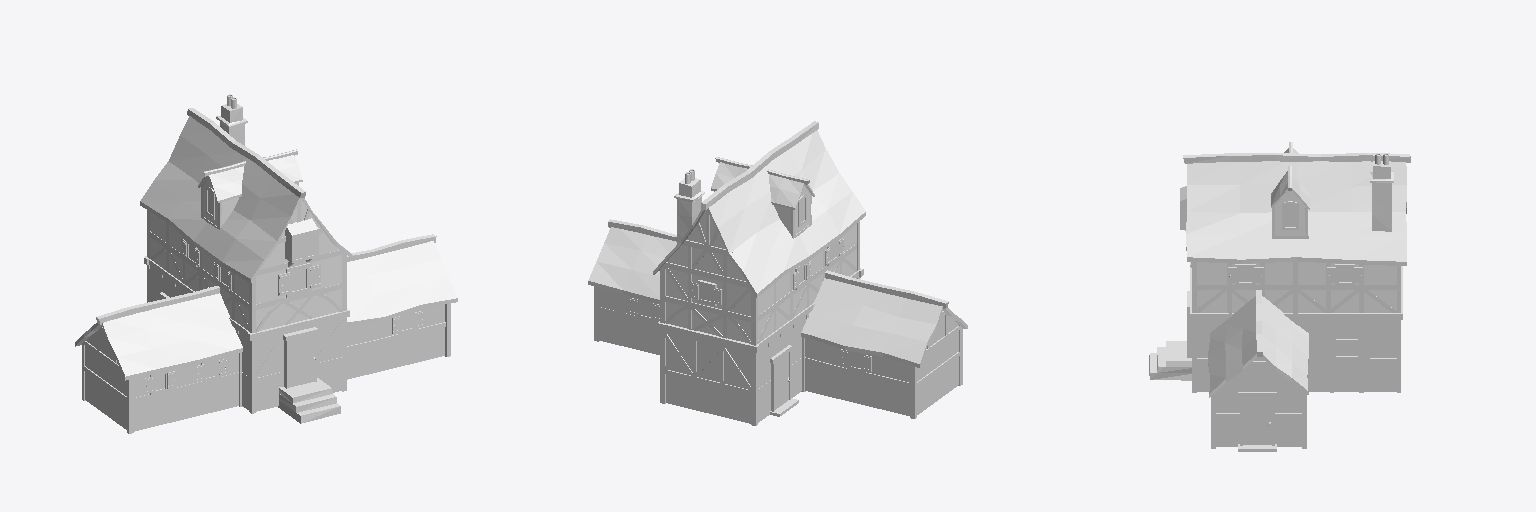
The model's file is medieval-house-2.obj.
3 views of the same model, side by side, from view 1: azimuth 30°, elevation 25°; view 2: azimuth 150°, elevation 25°; view 3: azimuth 270°, elevation 25° (orthographic).
Visible parts, largest first — view 1: Roof, Level1, WoodenBeams, Level2, RoofFrame, WindowFrames, Steps, DoorFront, Chimney, DoorFrontFrame; view 2: Roof, Level1, WoodenBeams, Level2, RoofFrame, WindowFrames, Chimney, DoorBack; view 3: Roof, Level1, WoodenBeams, Level2, RoofFrame, WindowFrames, Steps, Chimney, DoorSide, Level3, Window1Level1.
Boxes of the visible parts, box(x1,y1,x2,y2) form: Roof: box(103, 116, 457, 376); Level1: box(85, 269, 444, 431); WoodenBeams: box(82, 177, 450, 433); Level2: box(150, 199, 341, 330); RoofFrame: box(75, 108, 457, 380); WindowFrames: box(145, 187, 422, 394); Steps: box(278, 378, 340, 423); DoorFront: box(289, 334, 313, 387); Chimney: box(216, 104, 247, 145); DoorFrontFrame: box(283, 327, 317, 388); Roof: box(588, 130, 942, 363); Level1: box(599, 288, 958, 423); WoodenBeams: box(594, 185, 962, 425); Level2: box(666, 211, 856, 342); RoofFrame: box(588, 121, 967, 367); WindowFrames: box(630, 195, 871, 372); Chimney: box(674, 178, 704, 243); DoorBack: box(775, 353, 788, 409); Roof: box(1186, 148, 1406, 393); Level1: box(1197, 322, 1396, 446); WoodenBeams: box(1190, 191, 1402, 448); Level2: box(1197, 262, 1396, 312); RoofFrame: box(1183, 142, 1410, 397); WindowFrames: box(1180, 186, 1362, 357); Steps: box(1149, 341, 1191, 380); Chimney: box(1370, 161, 1393, 231); DoorSide: box(1243, 397, 1271, 444); Level3: box(1275, 191, 1305, 235); Window1Level1: box(1336, 324, 1357, 355).
Bounding box in the file's own units: 1509 × 979 × 1013.